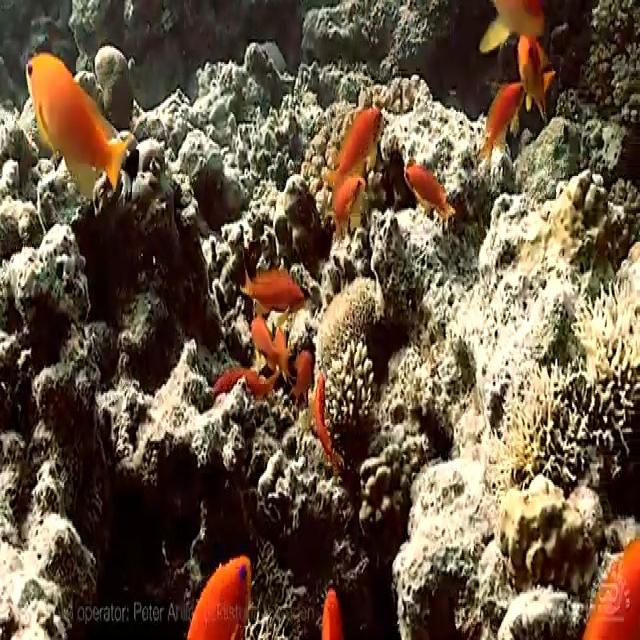Sea Goldie: (24, 47, 127, 190), (187, 557, 254, 640), (326, 100, 382, 176), (478, 87, 527, 160), (516, 32, 556, 116), (238, 268, 304, 315), (402, 160, 450, 218), (314, 379, 337, 470), (327, 178, 365, 221), (247, 313, 279, 364)
